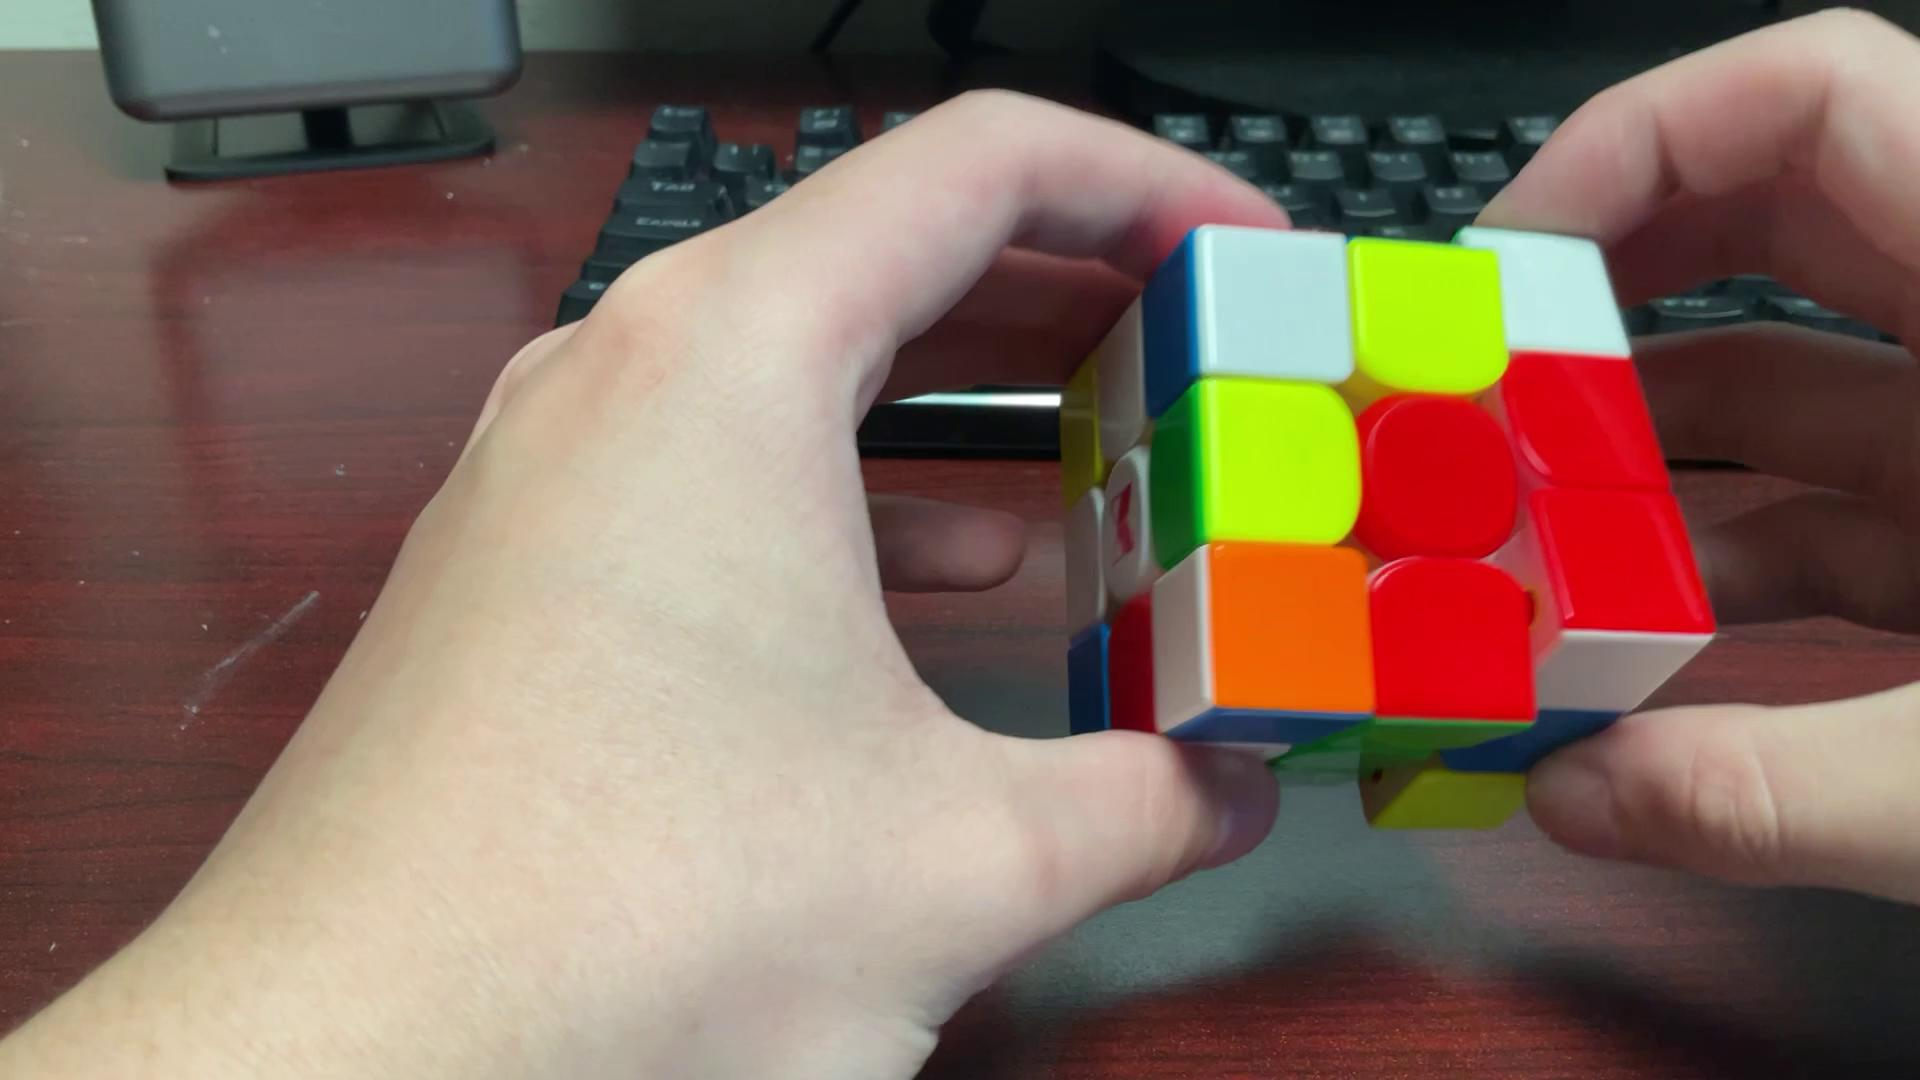Rubiks-Cube: (1051, 219, 1725, 836)
